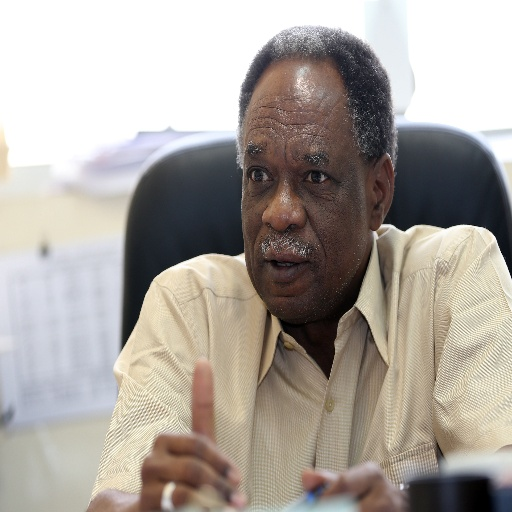hand: (134, 395, 242, 506), (298, 457, 411, 511)
